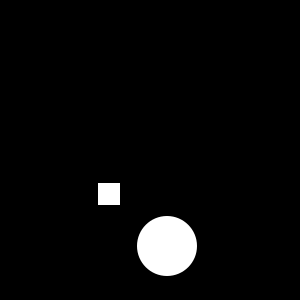circle: (98, 183, 120, 205)
rectangle: (137, 216, 197, 276)
